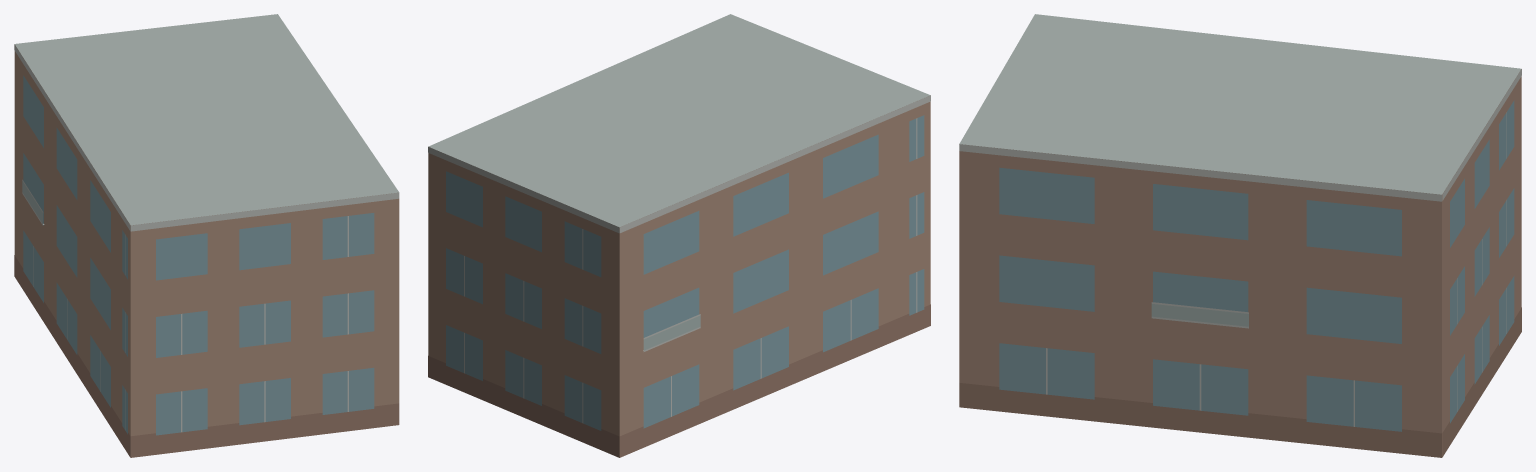
The model's file is survey-upis-32471121.glb.
3 renders of one model, left to right at view 1: azimuth 30°, elevation 25°; view 2: azimuth 150°, elevation 25°; view 3: azimuth 270°, elevation 25°, orthographic. The views are drawn at different scales.
Visible parts, largest first — view 1: survey-upis-32471121.tmp; view 2: survey-upis-32471121.tmp; view 3: survey-upis-32471121.tmp.
Boxes of the visible parts, x1,y1,x2,y2 form: survey-upis-32471121.tmp: (14,14,399,457); survey-upis-32471121.tmp: (428,14,930,457); survey-upis-32471121.tmp: (959,14,1521,457).
Size of the model in its own units: 13.48 by 9.15 by 17.73.
